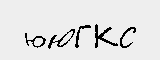Г: (76, 25, 88, 48)
К: (91, 23, 117, 49)
С: (121, 24, 138, 48)
Ю: (47, 28, 74, 51), (23, 31, 45, 50)
